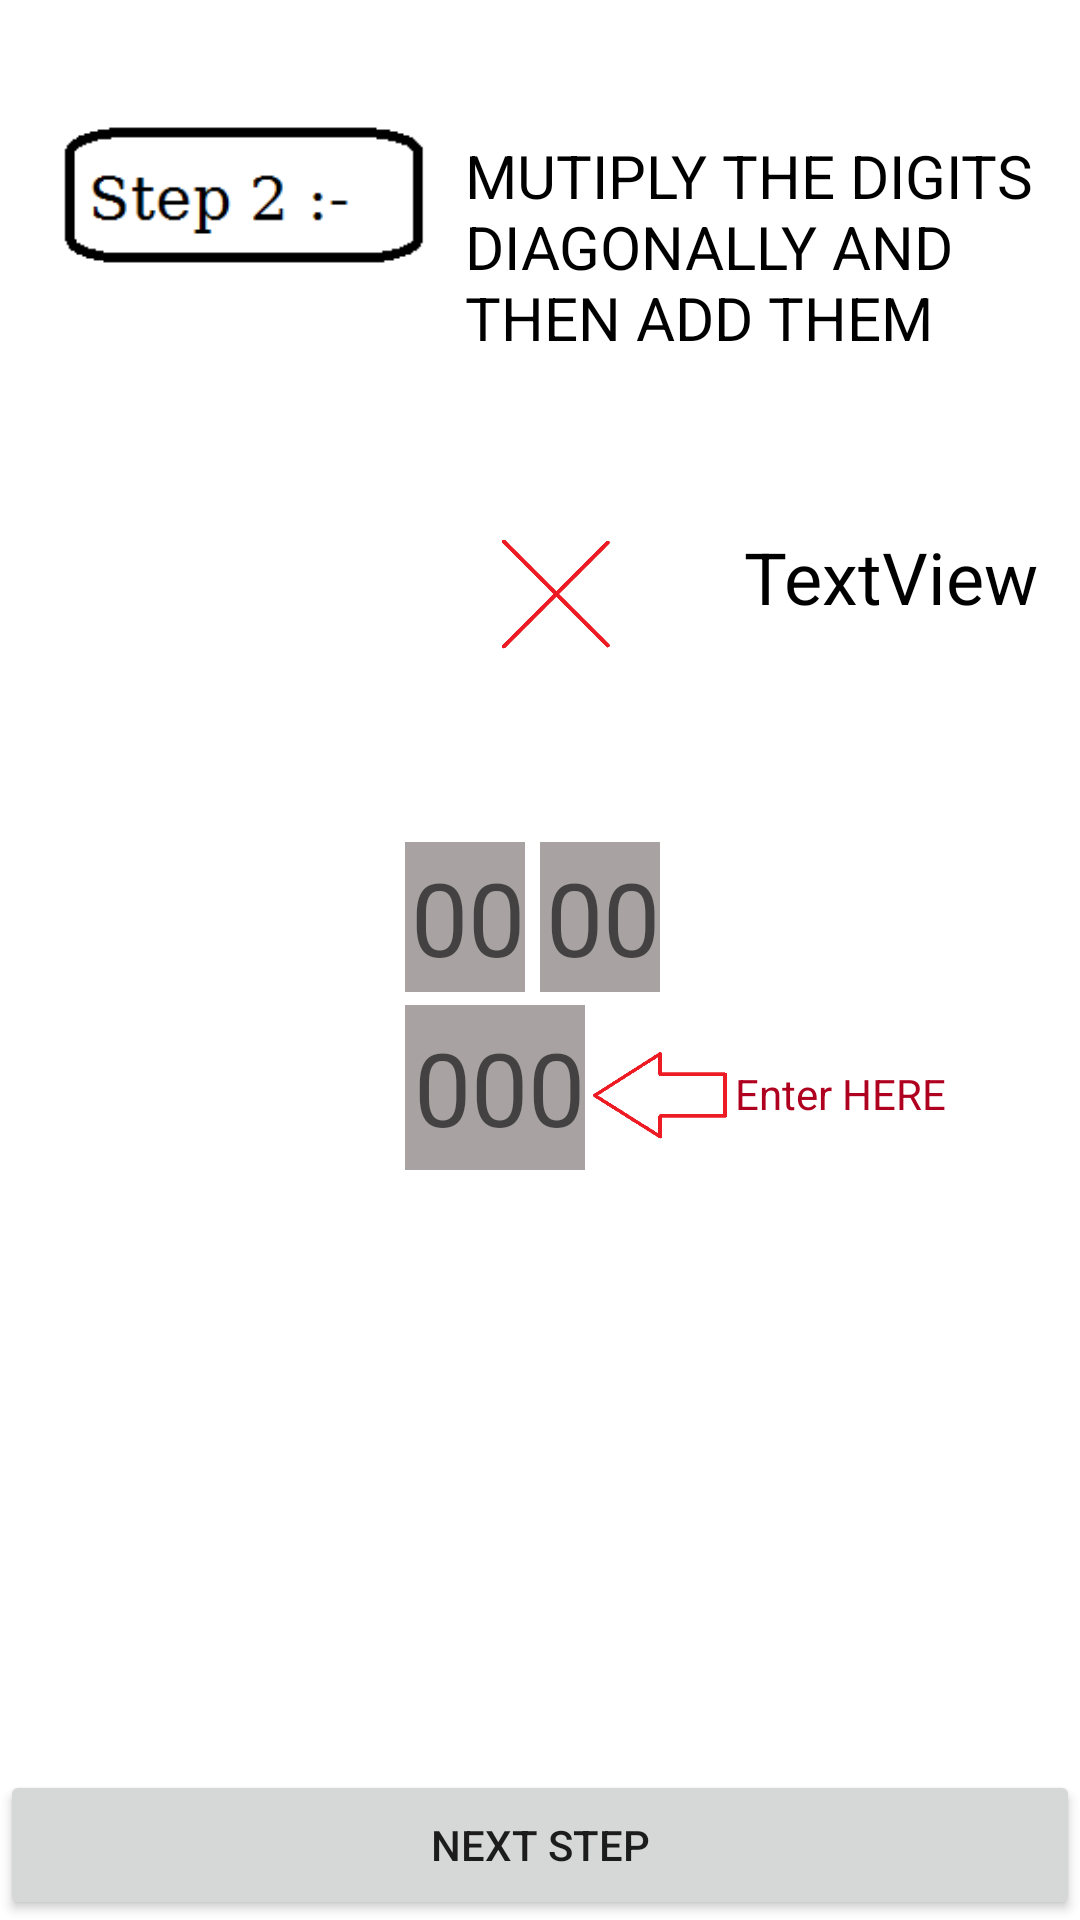

Point at icon controls on the screen. Image size 1080px×1920px, points as (x,y).
left arrow: (660,1095)
